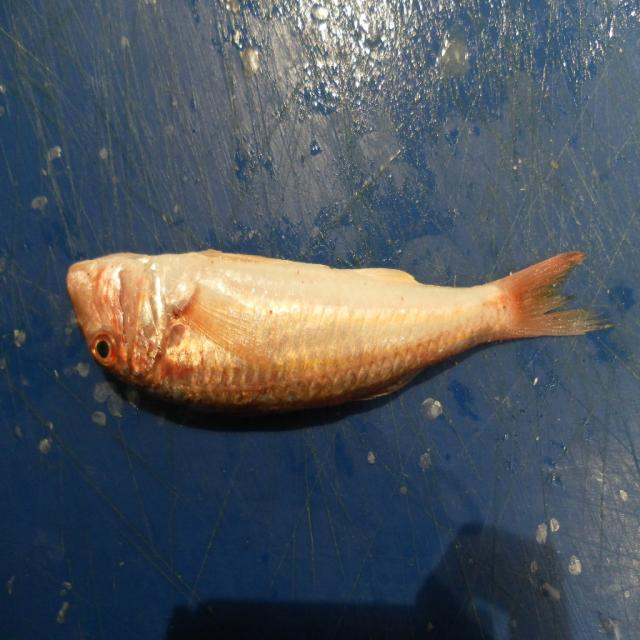Striped-Red-Mullet-tekir-: (66, 251, 611, 431)
